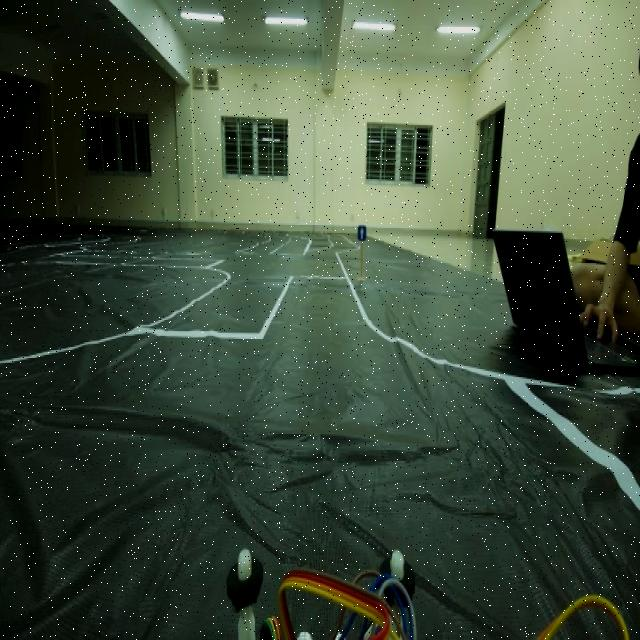onewayroad: (354, 220, 368, 242)
